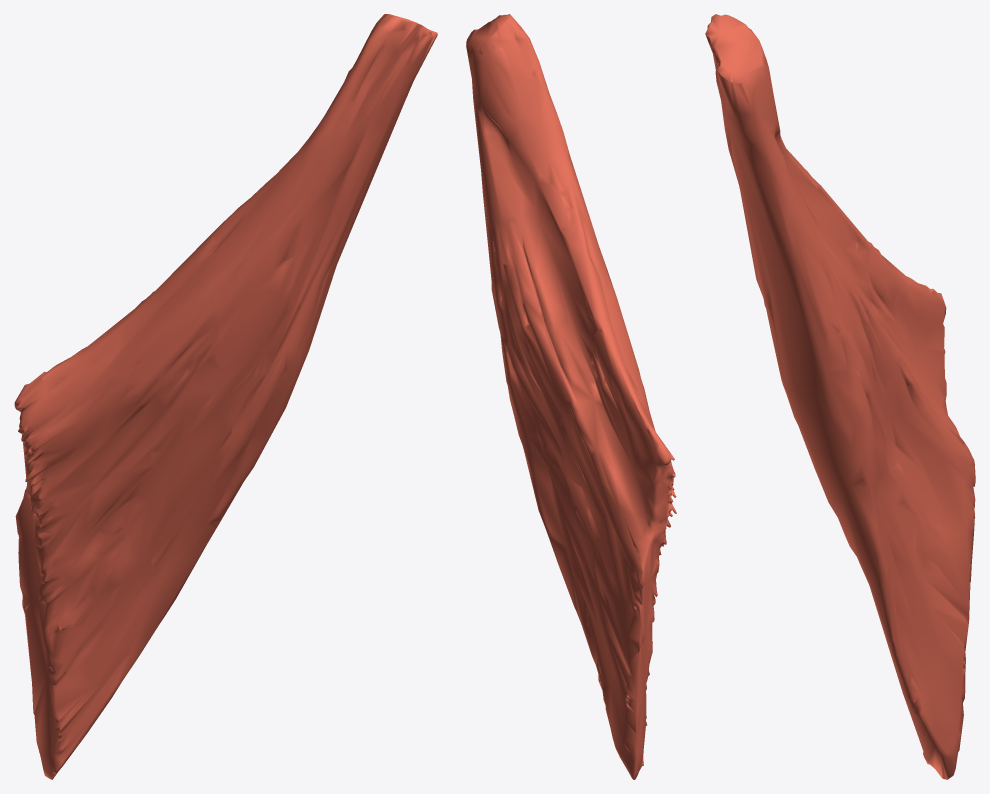
The model's file is adductor-brevis.glb.
3 views of the same model, side by side, from view 1: azimuth 30°, elevation 25°; view 2: azimuth 150°, elevation 25°; view 3: azimuth 270°, elevation 25° (orthographic). The views are drawn at different scales.
Parts seen in each view (by area): view 1: Adductor brevis.r; view 2: Adductor brevis.r; view 3: Adductor brevis.r.
Boxes of the visible parts, x1,y1,x2,y2 form: Adductor brevis.r: (14,14,437,779); Adductor brevis.r: (466,14,676,779); Adductor brevis.r: (705,14,975,779).
Bounding box in the file's own units: 0.0792 × 0.1763 × 0.0478.
